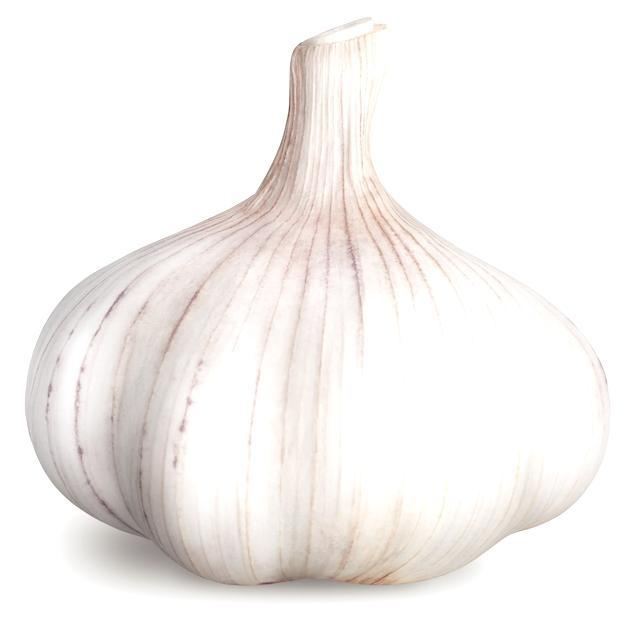garlic: (26, 21, 608, 584)
